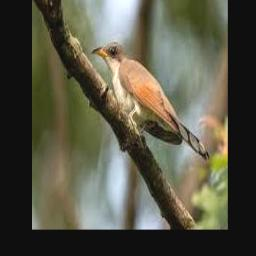Cuckoo: (91, 42, 209, 160)
